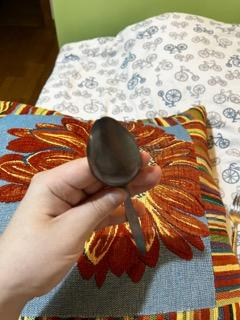spoon: (84, 114, 151, 256)
